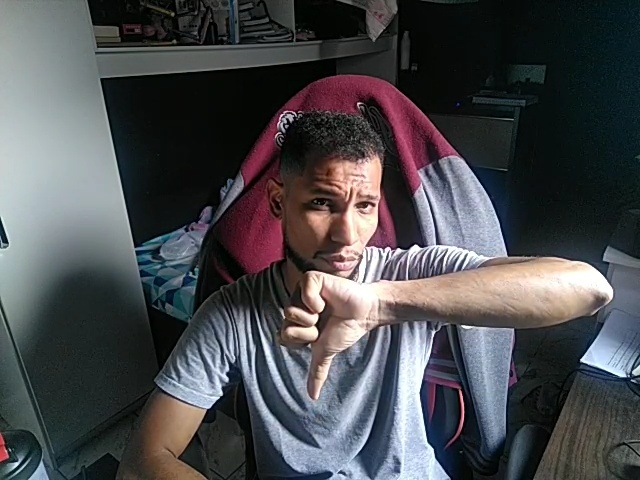não: (277, 265, 373, 404)
